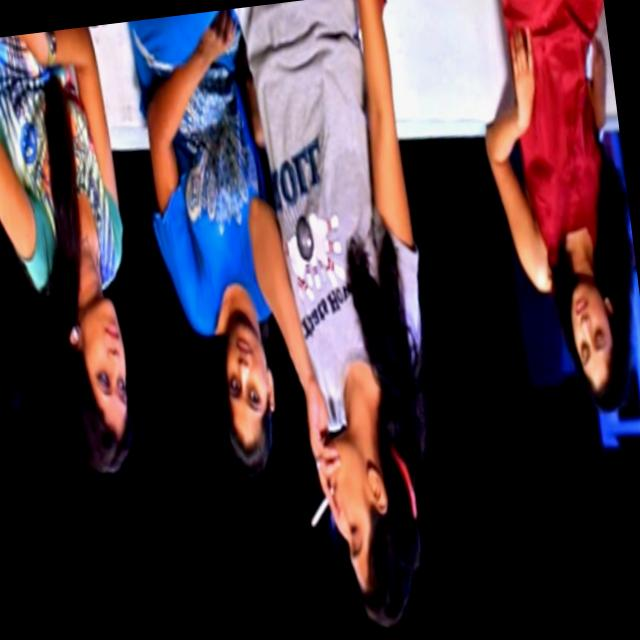cigarette: (310, 500, 330, 530)
